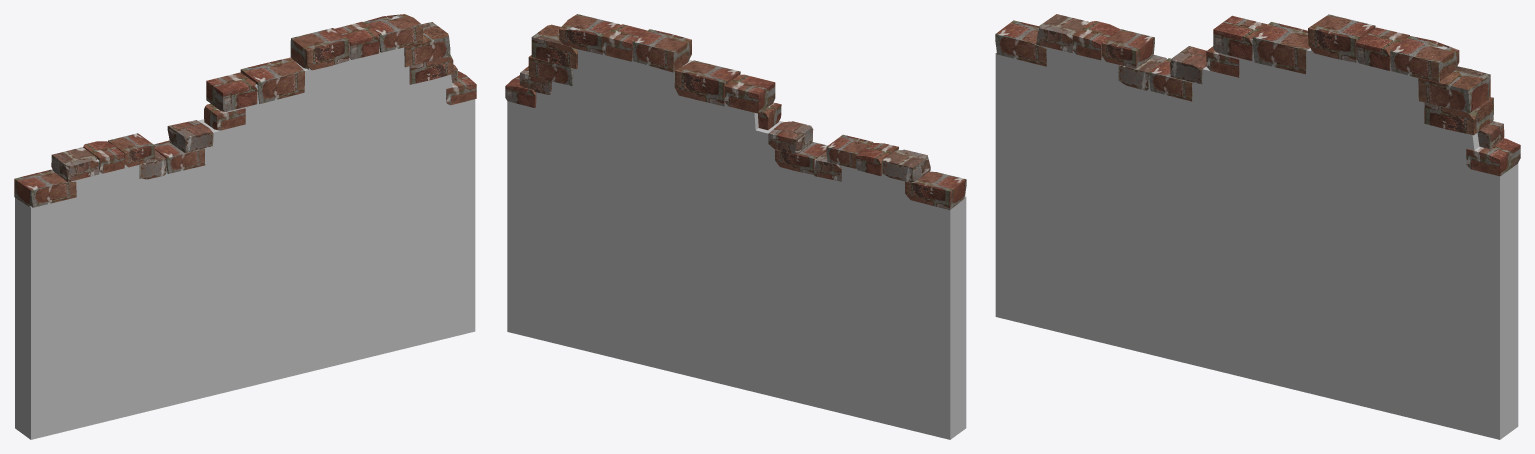
Rendered from SM_Wall_Ruined_22.fbx.
The picture shows the model from 3 angles, left to right: view 1: azimuth 30°, elevation 25°; view 2: azimuth 150°, elevation 25°; view 3: azimuth 330°, elevation 25°; orthographic projection. The views are drawn at different scales.
Visible parts, largest first — view 1: SM_Wall_Ruined_22_LOD0; view 2: SM_Wall_Ruined_22_LOD0; view 3: SM_Wall_Ruined_22_LOD0.
Part boxes in pixels (x1,y1,x2,y2): SM_Wall_Ruined_22_LOD0: (14, 14, 476, 439); SM_Wall_Ruined_22_LOD0: (505, 14, 966, 439); SM_Wall_Ruined_22_LOD0: (995, 14, 1520, 439).
Size of what is drawn, in the model's own units: 802 by 555 by 60.04.
